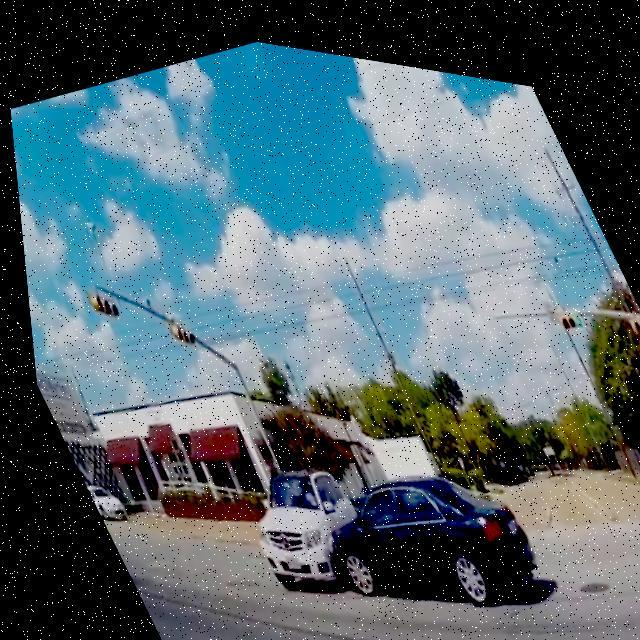Car Accident Detector - v4 Generation1 Exported: (198, 363, 554, 640)
